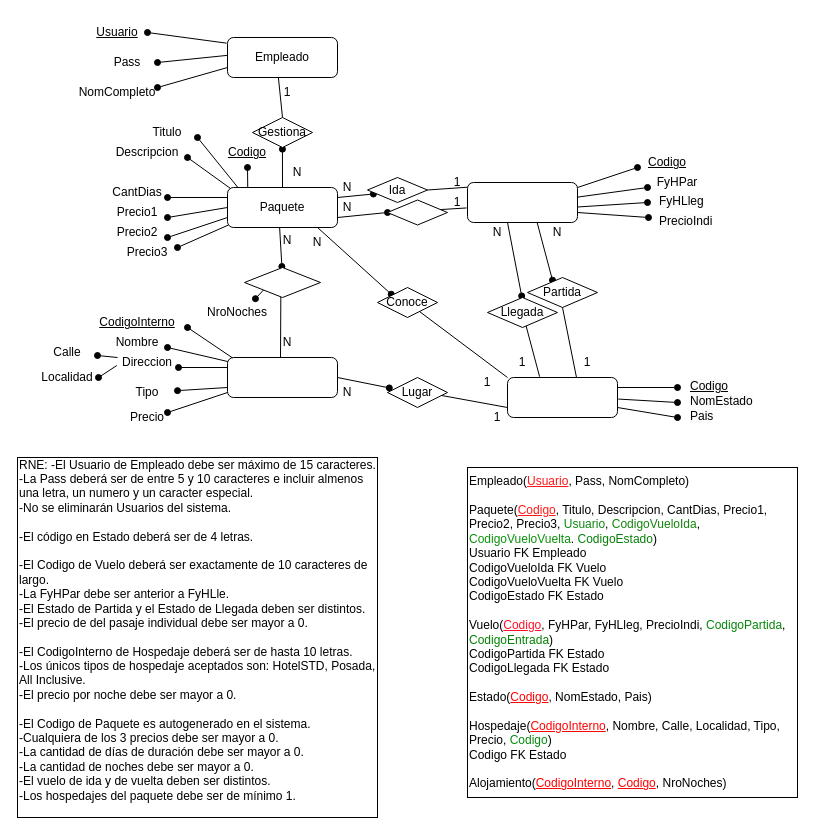
The diagram is 815 pixels wide and 835 high, and some of its shapes have lost their labels. Here are the shapes that lost their labels. From the top down, the centre of each, then its label:
(x=417, y=212): Vuelta
(x=522, y=202): Vuelo
(x=282, y=282): Alojamiento
(x=282, y=377): Hospedaje
(x=562, y=397): Estado
